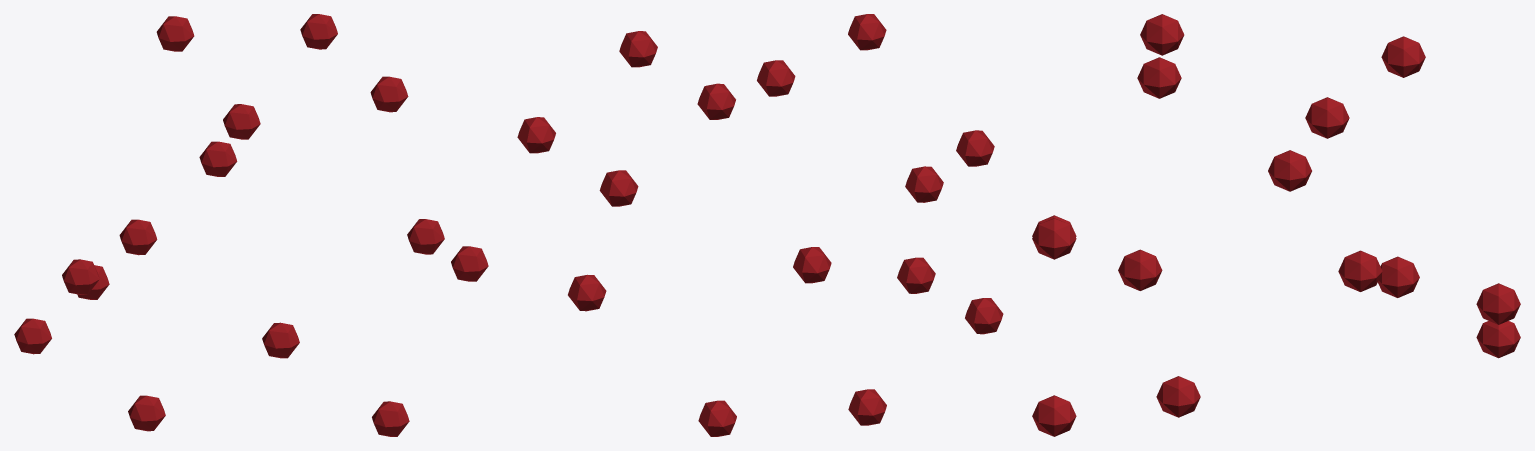
The model's file is Hedge-2x2x2-Corner_Berries.FBX.
The picture shows the model from 3 angles, left to right: view 1: azimuth 30°, elevation 25°; view 2: azimuth 150°, elevation 25°; view 3: azimuth 270°, elevation 25°; orthographic projection. The views are drawn at different scales.
Parts seen in each view (by area): view 1: Hedge-2x2x2-Corner_Berries; view 2: Hedge-2x2x2-Corner_Berries; view 3: Hedge-2x2x2-Corner_Berries.
Part boxes in pixels (<box>): Hedge-2x2x2-Corner_Berries: <box>14,14,488,436</box>; Hedge-2x2x2-Corner_Berries: <box>517,14,1003,436</box>; Hedge-2x2x2-Corner_Berries: <box>1032,14,1520,436</box>.
Size of the model in its own units: 22 by 18.16 by 22.
